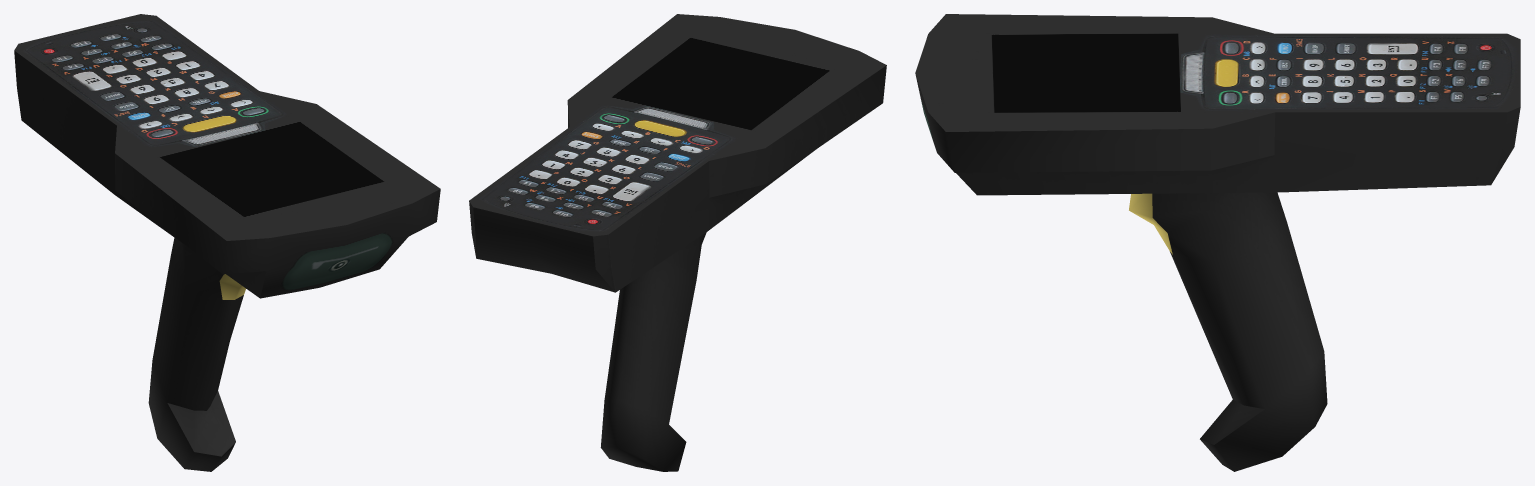
3 renders of one model, left to right at view 1: azimuth 30°, elevation 25°; view 2: azimuth 150°, elevation 25°; view 3: azimuth 270°, elevation 25°, orthographic. The views are drawn at different scales.
Visible parts, largest first — view 1: RF; view 2: RF; view 3: RF.
Boxes of the visible parts, x1,y1,x2,y2 form: RF: (14,14,440,471); RF: (469,14,886,471); RF: (915,14,1520,471).
Bounding box in the file's own units: 2.42 × 3.74 × 5.24.
1 material, 1 textured.
